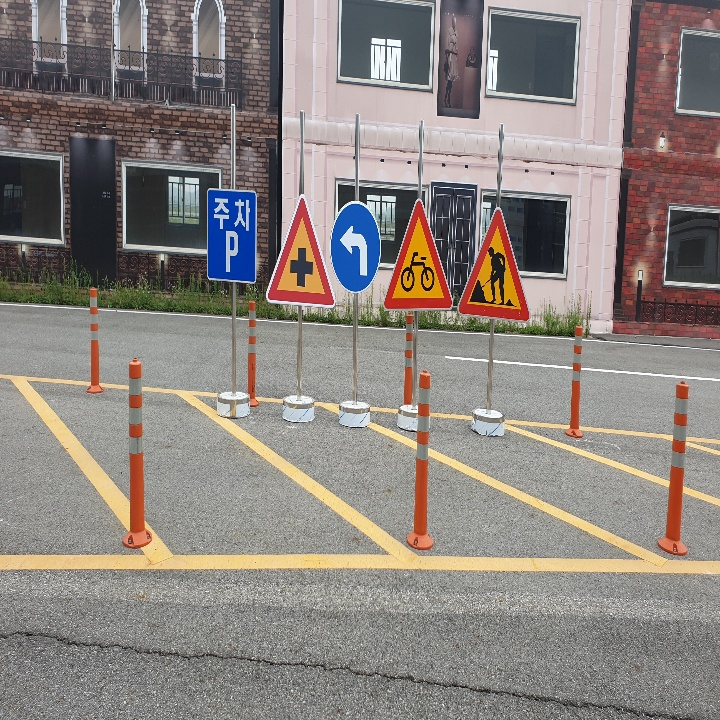bicycle: (388, 202, 457, 308)
const: (471, 239, 518, 307)
inter: (282, 240, 319, 291)
left: (336, 219, 374, 280)
parking: (218, 225, 242, 275)
